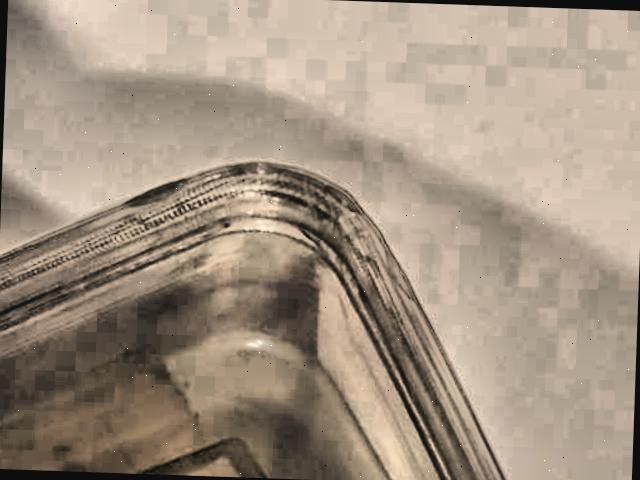Plastic: (0, 141, 552, 480)
